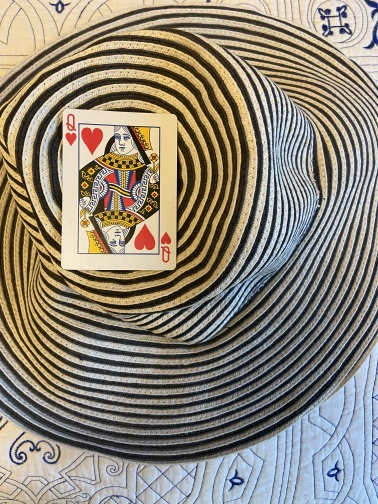queen: (60, 109, 178, 271)
